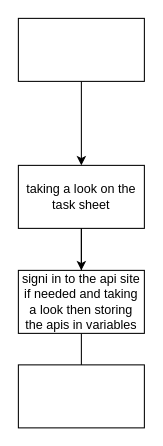
The diagram is 163 pixels wide and 446 high, and some of its shapes have lost their labels. The box of each missing label's shape, as (x1, y1, x2, y2) in pixels:
building the base html: (17, 17, 144, 81)
trying to fetch the api to see what and how data looks: (17, 364, 144, 428)
